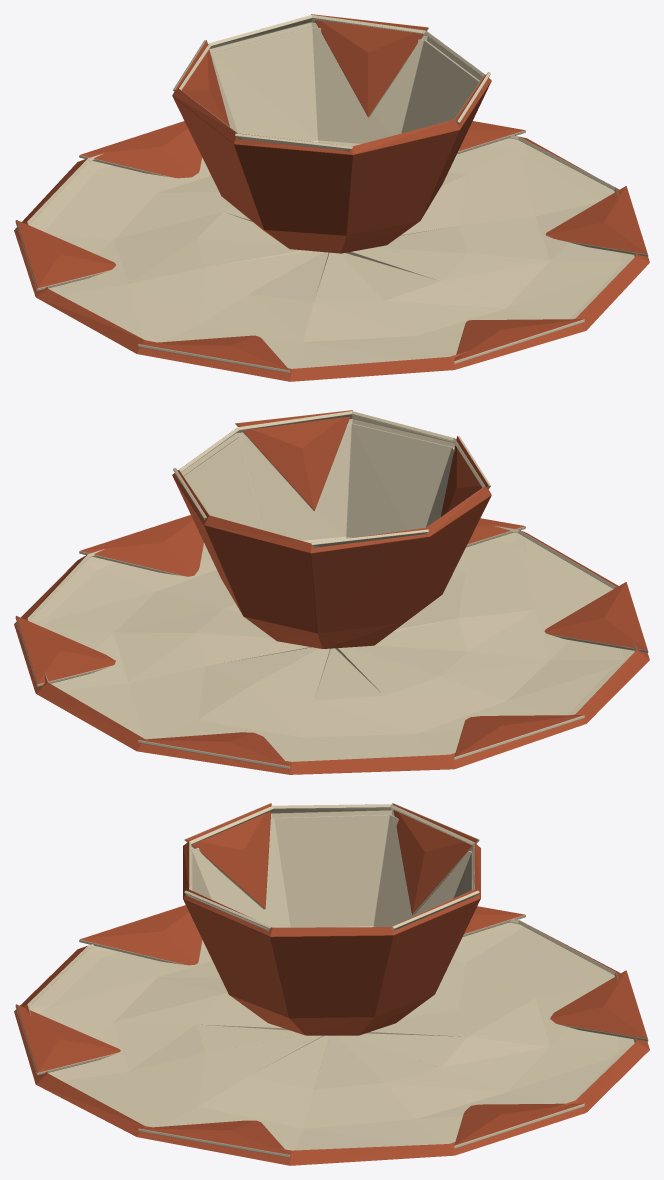
The model's file is achievement-getting-started.glb.
The picture shows the model from 3 angles, top to bottom: view 1: azimuth 30°, elevation 25°; view 2: azimuth 150°, elevation 25°; view 3: azimuth 270°, elevation 25°; orthographic projection.
Parts seen in each view (by area): view 1: achievement-getting-started; view 2: achievement-getting-started; view 3: achievement-getting-started.
Boxes of the visible parts, x1,y1,x2,y2 form: achievement-getting-started: (14,14,649,381); achievement-getting-started: (14,410,649,774); achievement-getting-started: (14,803,649,1165).
Bounding box in the file's own units: 2.23 × 0.6968 × 2.23.
